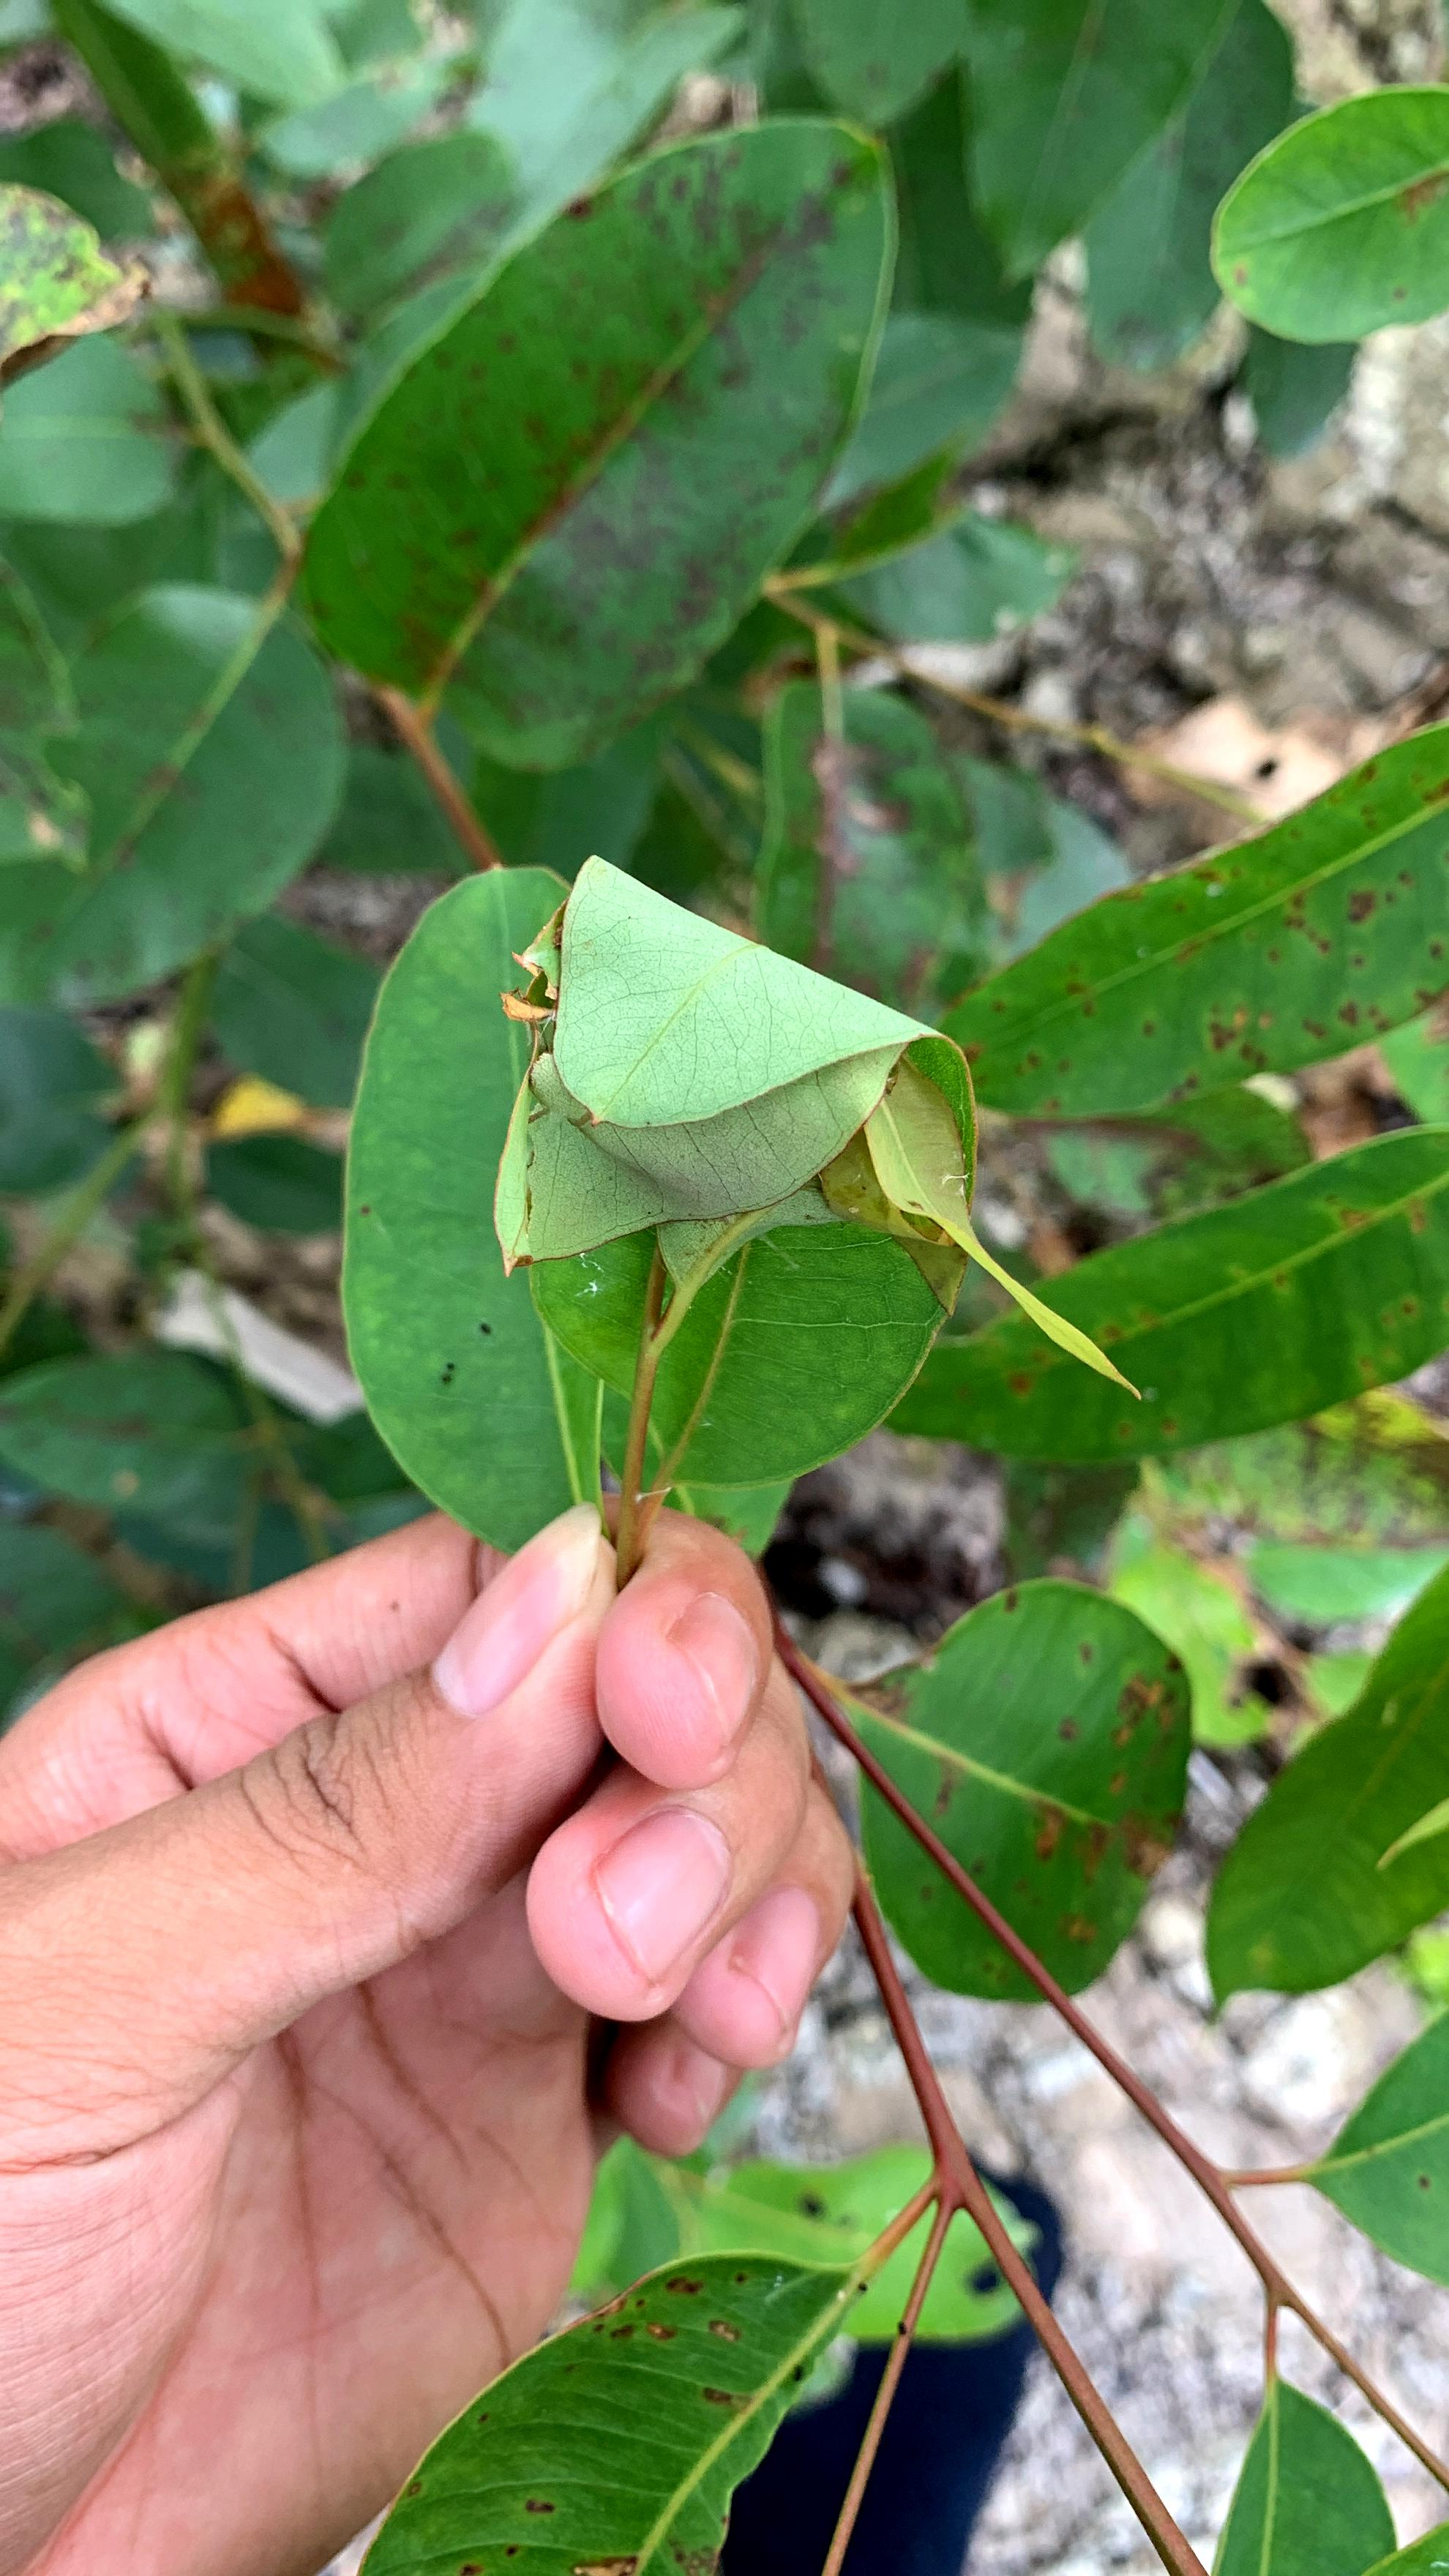Leaf Roller - Leaf: (506, 853, 966, 1521)
